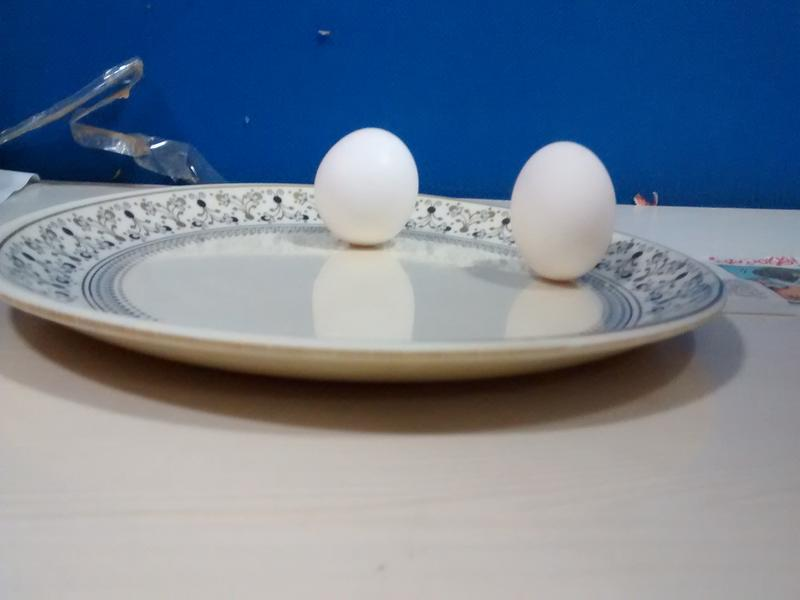egg: (511, 140, 613, 285)
